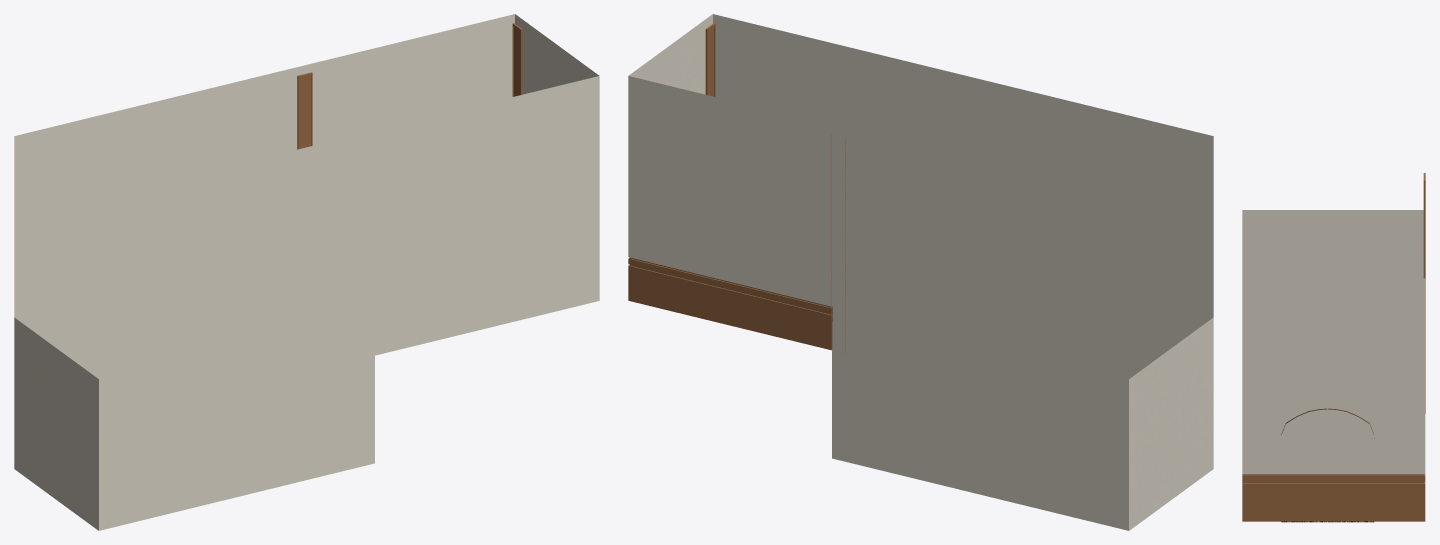
Rendered from corridor4.fbx.
The picture shows the model from 3 angles, left to right: view 1: azimuth 30°, elevation 25°; view 2: azimuth 150°, elevation 25°; view 3: azimuth 270°, elevation 25°; orthographic projection. The views are drawn at different scales.
Visible parts, largest first — view 1: corrodor4; view 2: corrodor4; view 3: corrodor4.
Part boxes in pixels (box(x1,y1,x2,y2)): corrodor4: box(14, 14, 599, 530); corrodor4: box(628, 14, 1213, 530); corrodor4: box(1242, 173, 1425, 522).
Bounding box in the file's own units: 18.65 × 11.81 × 5.45.
1 material, 1 textured.
